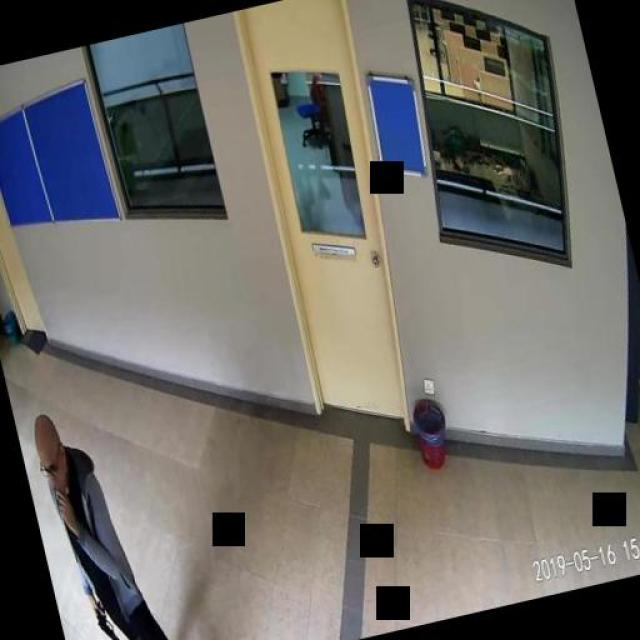gun: (92, 605, 124, 640)
